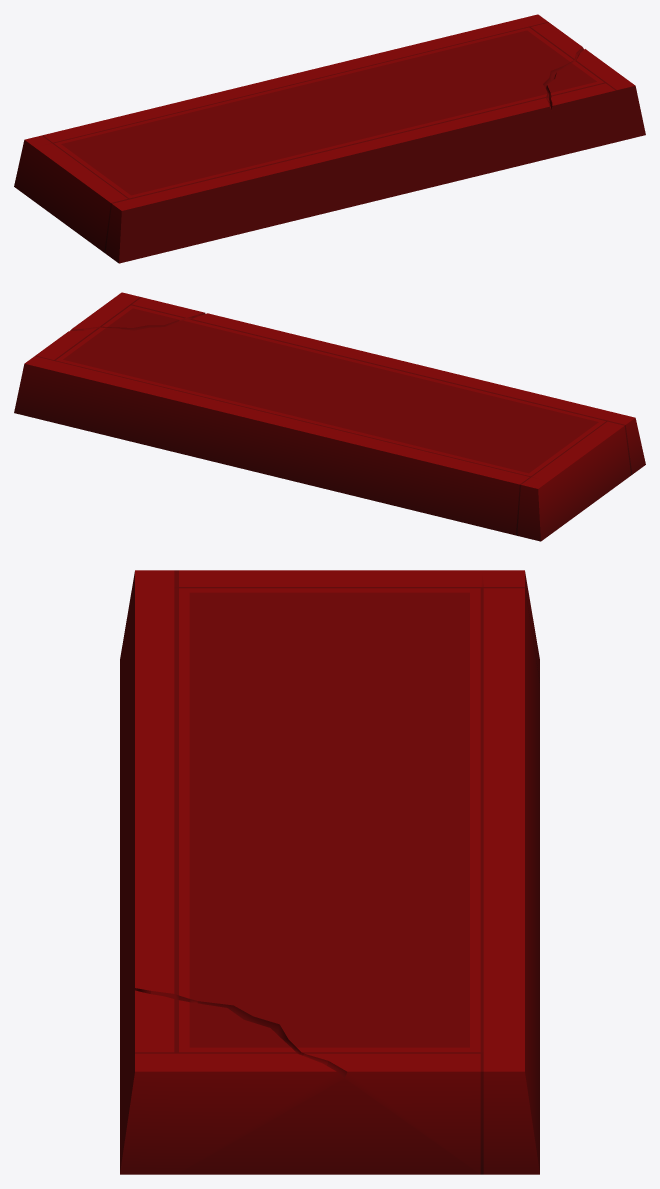
The model's file is geology-landforms-citywidesidewalktile_v2.fbx.
3 views of the same model, one above another, from view 1: azimuth 30°, elevation 25°; view 2: azimuth 150°, elevation 25°; view 3: azimuth 270°, elevation 25° (orthographic). The views are drawn at different scales.
Visible parts, largest first — view 1: CityWideSidewalkTile_v2; view 2: CityWideSidewalkTile_v2; view 3: CityWideSidewalkTile_v2.
Part boxes in pixels (x1,y1,x2,y2): CityWideSidewalkTile_v2: (14,14,645,263); CityWideSidewalkTile_v2: (14,292,645,541); CityWideSidewalkTile_v2: (120,570,539,1174).
Size of the model in its own units: 9.36 by 0.9517 by 3.23.
